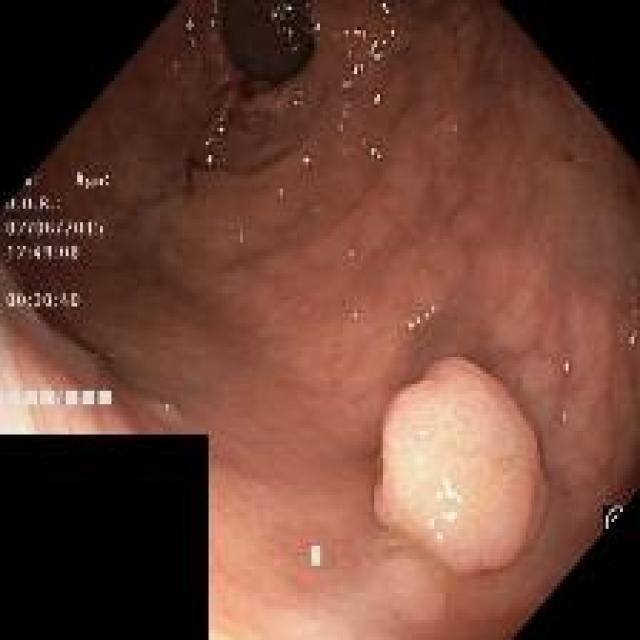Polyps: (374, 360, 549, 575)
